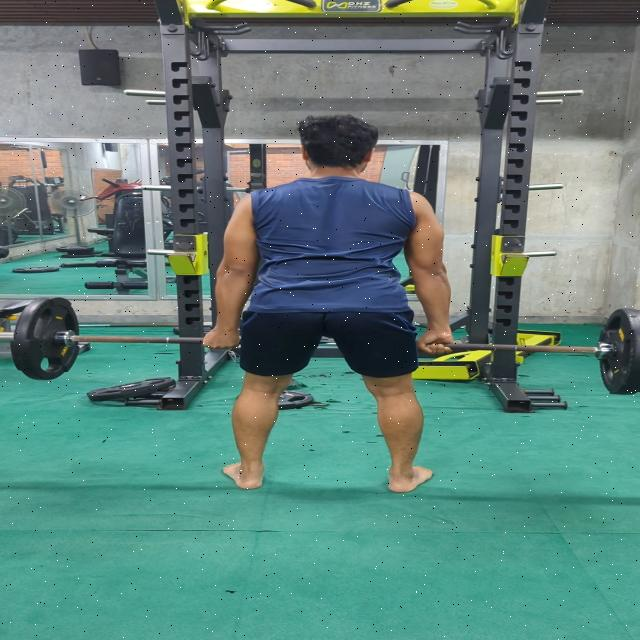Normal_Deadlifts: (202, 116, 455, 494)
